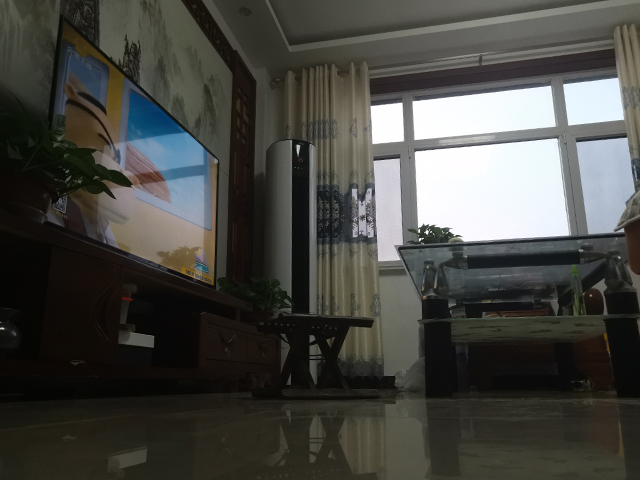cabinet: (1, 219, 282, 397)
curtain: (282, 58, 385, 383)
stool: (251, 312, 386, 403)
table: (393, 231, 640, 401)
